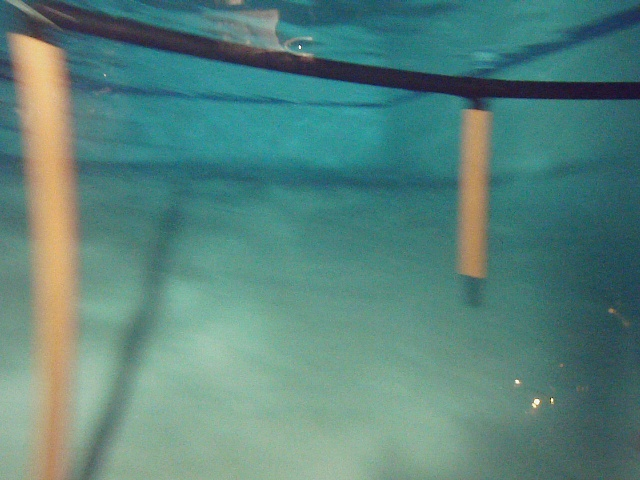Gate: (1, 27, 79, 477), (451, 104, 495, 281)
